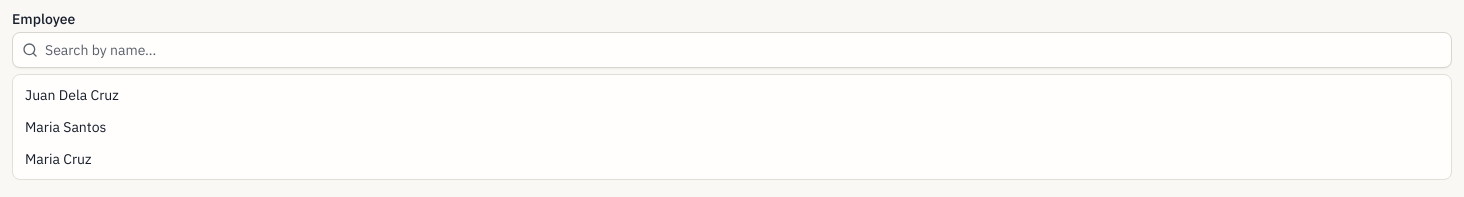
Scenario: SearchableOptionSelect › says so when nothing matches
Type "zzz" into the dropdown with placeholder "Search by name…".
click(732, 50); type("zzz")  # box left=12, top=32, right=1452, bottom=68
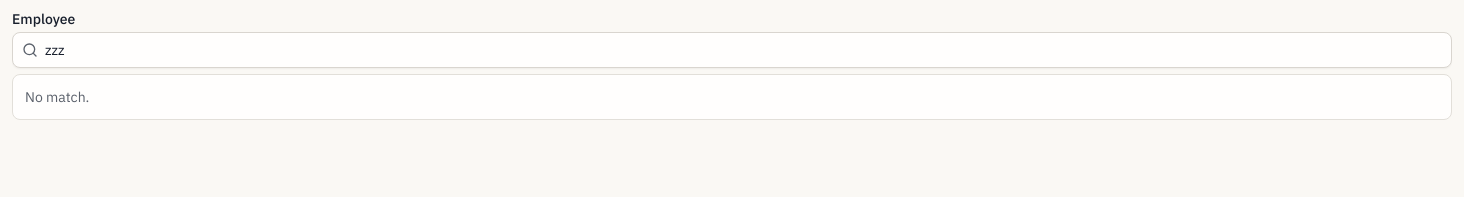
Check: no options are shown
Check: the list item "No match." is shown, box left=25, top=88, right=89, bottom=106
